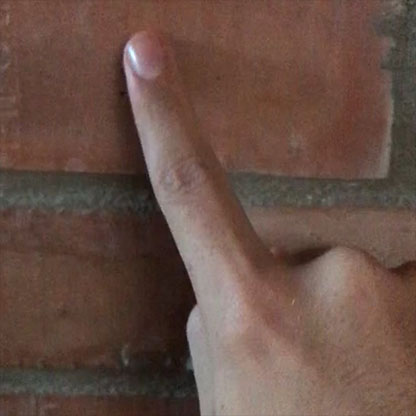fingertip: (108, 21, 202, 98)
